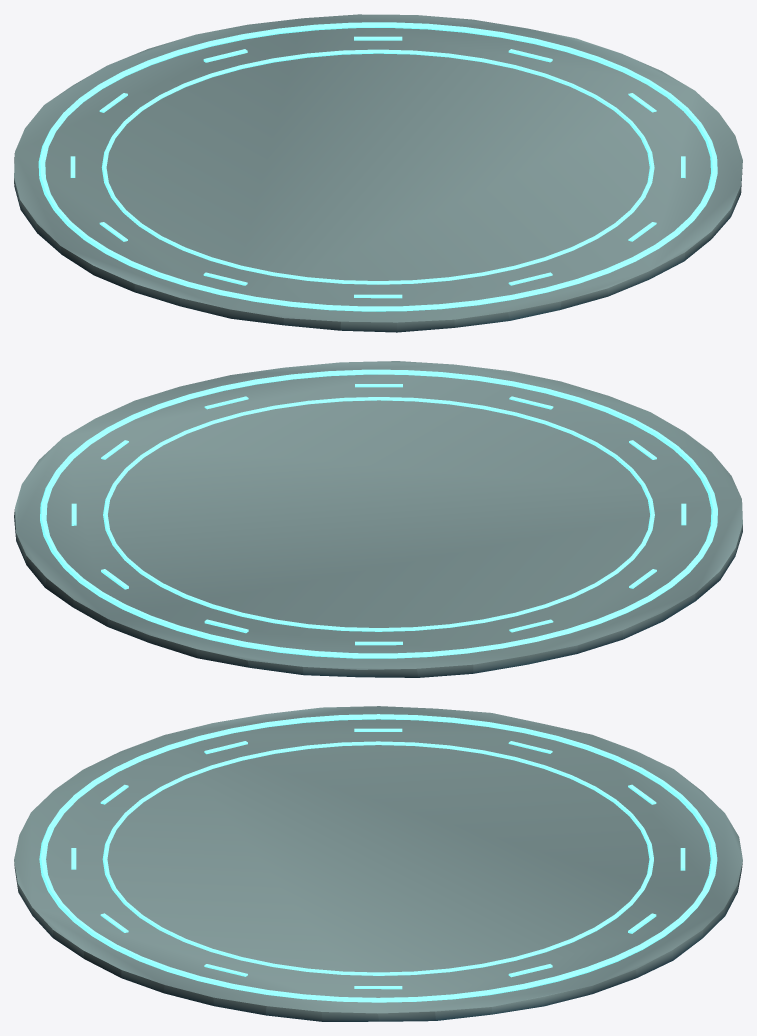
File: ruin_rune_floor_ring.glb
3 renders of one model, top to bottom at view 1: azimuth 30°, elevation 25°; view 2: azimuth 150°, elevation 25°; view 3: azimuth 270°, elevation 25°, orthographic.
Parts seen in each view (by area): view 1: ruin_rune_floor_ring_stone, ruin_rune_floor_ring_glow; view 2: ruin_rune_floor_ring_stone, ruin_rune_floor_ring_glow; view 3: ruin_rune_floor_ring_stone, ruin_rune_floor_ring_glow.
Boxes of the visible parts, bbox=[...] form: ruin_rune_floor_ring_stone: bbox=[14, 14, 742, 332]; ruin_rune_floor_ring_glow: bbox=[38, 22, 717, 311]; ruin_rune_floor_ring_stone: bbox=[14, 361, 742, 677]; ruin_rune_floor_ring_glow: bbox=[40, 369, 717, 658]; ruin_rune_floor_ring_stone: bbox=[14, 706, 742, 1021]; ruin_rune_floor_ring_glow: bbox=[39, 714, 717, 1002].
Bounding box in the file's own units: 15.22 × 0.2981 × 15.2.
